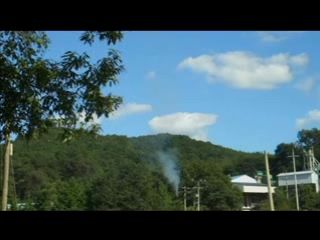smoke: (152, 147, 184, 198)
